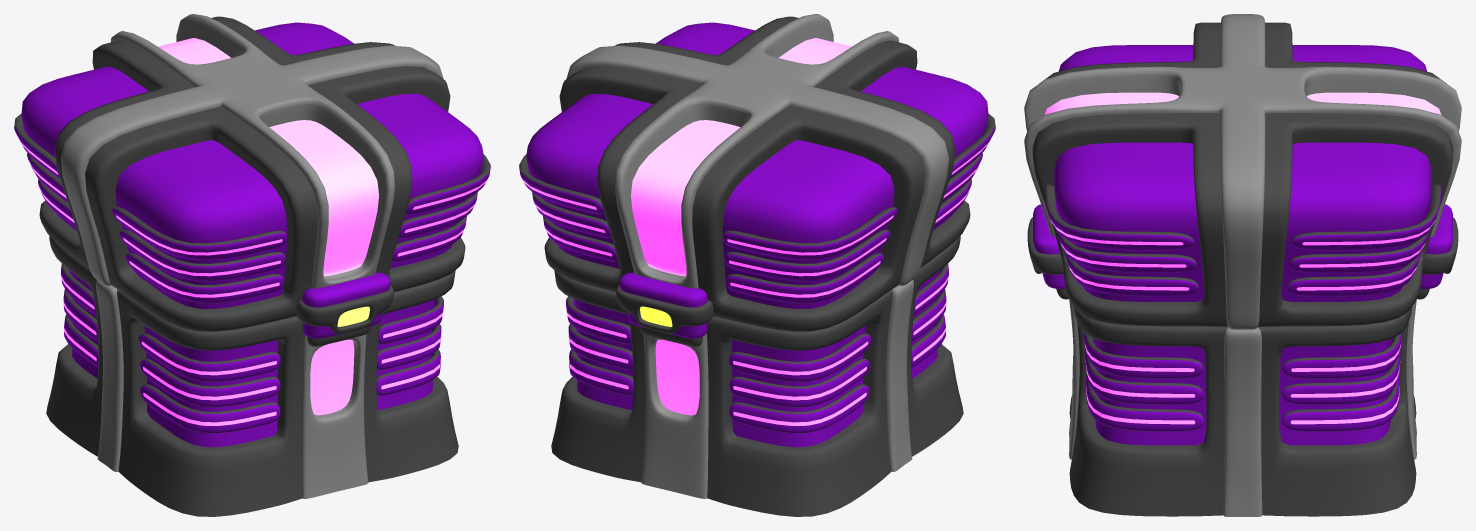
File: PH_mesh_Lootbox_Driver.fbx
3 renders of one model, left to right at view 1: azimuth 30°, elevation 25°; view 2: azimuth 150°, elevation 25°; view 3: azimuth 270°, elevation 25°, orthographic. The views are drawn at different scales.
Parts seen in each view (by area): view 1: mesh_Lootbox_Driver; view 2: mesh_Lootbox_Driver; view 3: mesh_Lootbox_Driver.
Boxes of the visible parts, <box> form: mesh_Lootbox_Driver: <box>14,14,490,516</box>; mesh_Lootbox_Driver: <box>519,14,995,516</box>; mesh_Lootbox_Driver: <box>1024,14,1461,516</box>.
Bounding box in the file's own units: 1.94 × 1.75 × 1.94.
